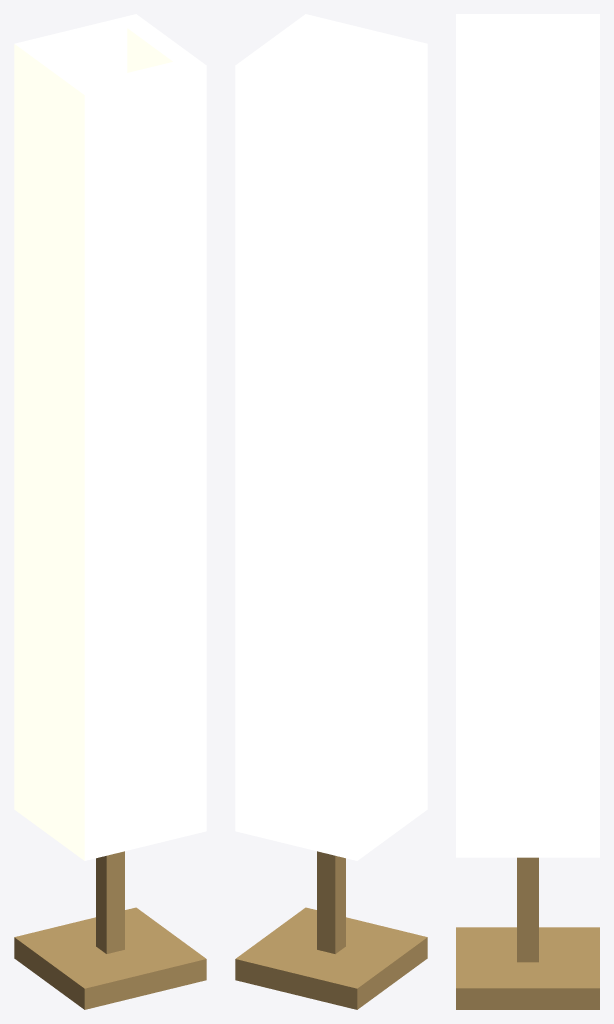
File: furn_squarelamp.glb
3 renders of one model, left to right at view 1: azimuth 30°, elevation 25°; view 2: azimuth 150°, elevation 25°; view 3: azimuth 270°, elevation 25°, orthographic. The views are drawn at different scales.
Parts seen in each view (by area): view 1: squarelamp; view 2: squarelamp; view 3: squarelamp.
Boxes of the visible parts, x1,y1,x2,y2 form: squarelamp: (14,14,206,1009); squarelamp: (235,14,427,1009); squarelamp: (456,14,599,1009).
Size of the model in its own units: 0.2232 by 1.6 by 0.2232.
